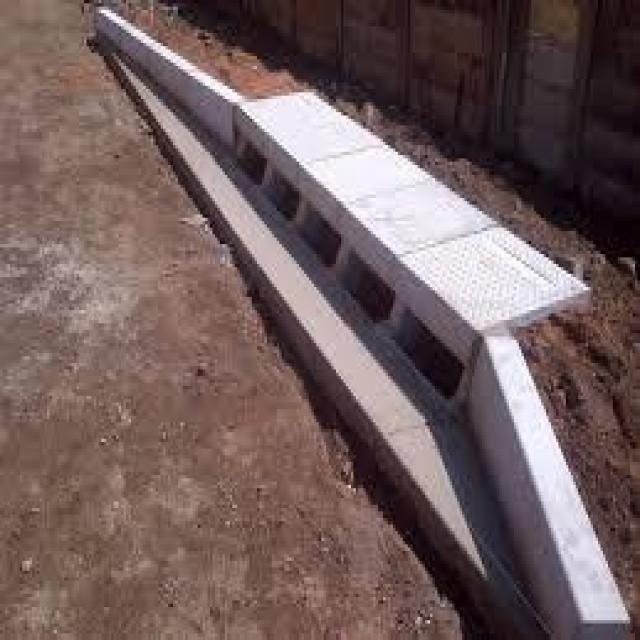curb: (397, 322, 623, 640), (254, 106, 457, 449), (90, 8, 239, 205)
